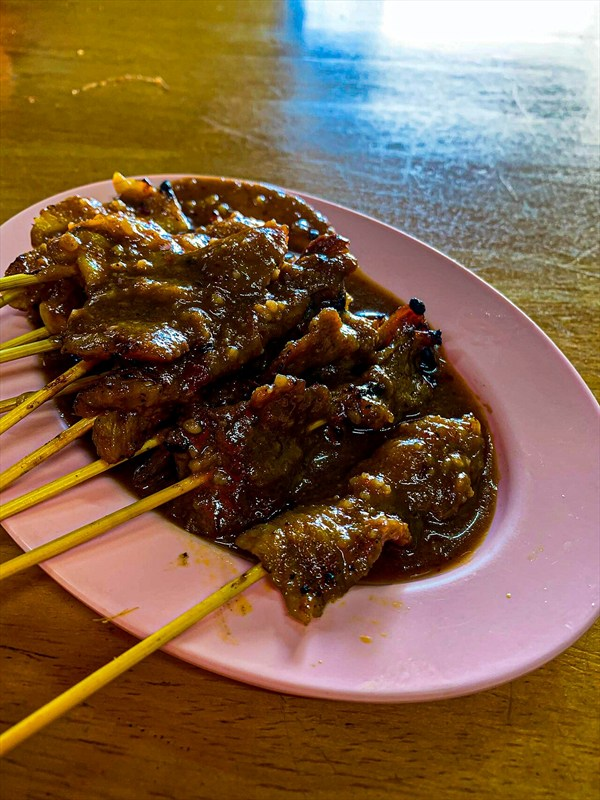Sate Ayam: (20, 16, 505, 715)
